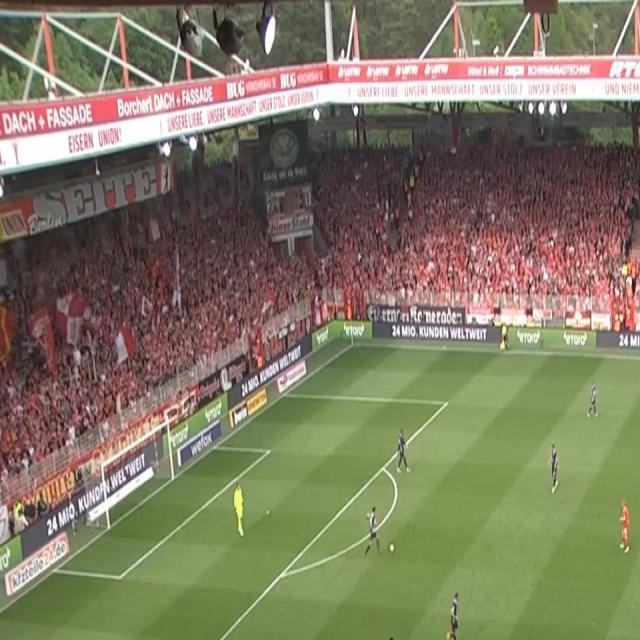ball: (388, 541, 394, 553)
